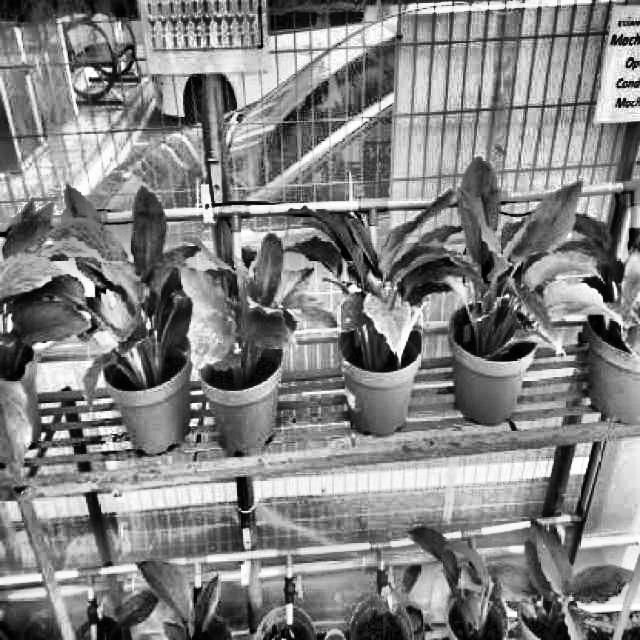plants: (49, 183, 214, 403), (277, 198, 463, 384), (458, 154, 600, 366), (177, 226, 334, 382), (406, 514, 548, 638), (518, 518, 638, 638)
